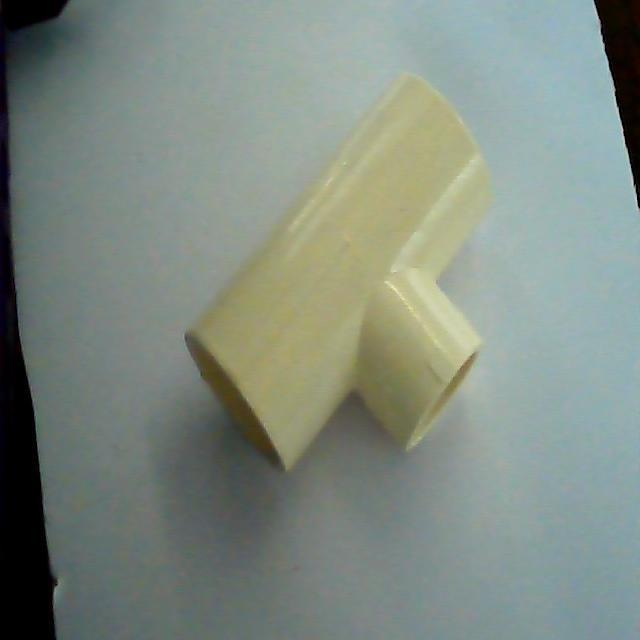T Joint: (184, 71, 494, 475)
